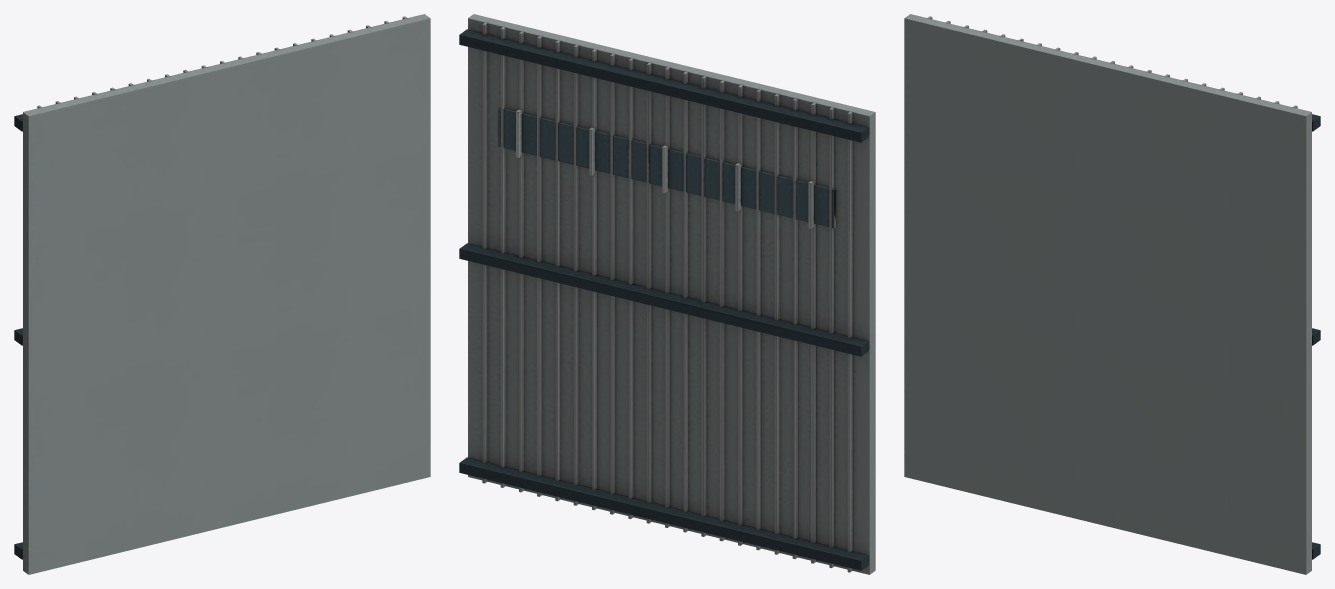
The model's file is wall_bay.glb.
The picture shows the model from 3 angles, left to right: view 1: azimuth 30°, elevation 25°; view 2: azimuth 150°, elevation 25°; view 3: azimuth 330°, elevation 25°; orthographic projection.
Visible parts, largest first — view 1: body; view 2: body; view 3: body.
Part boxes in pixels (bbox=[...]): body: bbox=[14, 14, 430, 574]; body: bbox=[459, 14, 875, 574]; body: bbox=[904, 14, 1320, 574].
Bounding box in the file's own units: 5.5 × 6 × 0.3399.
Materials: 1 (1 with a texture image).
